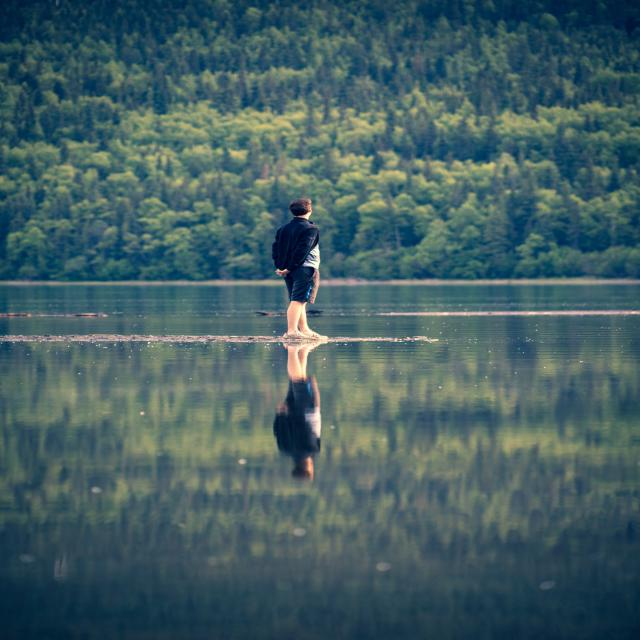standing: (268, 195, 336, 341)
